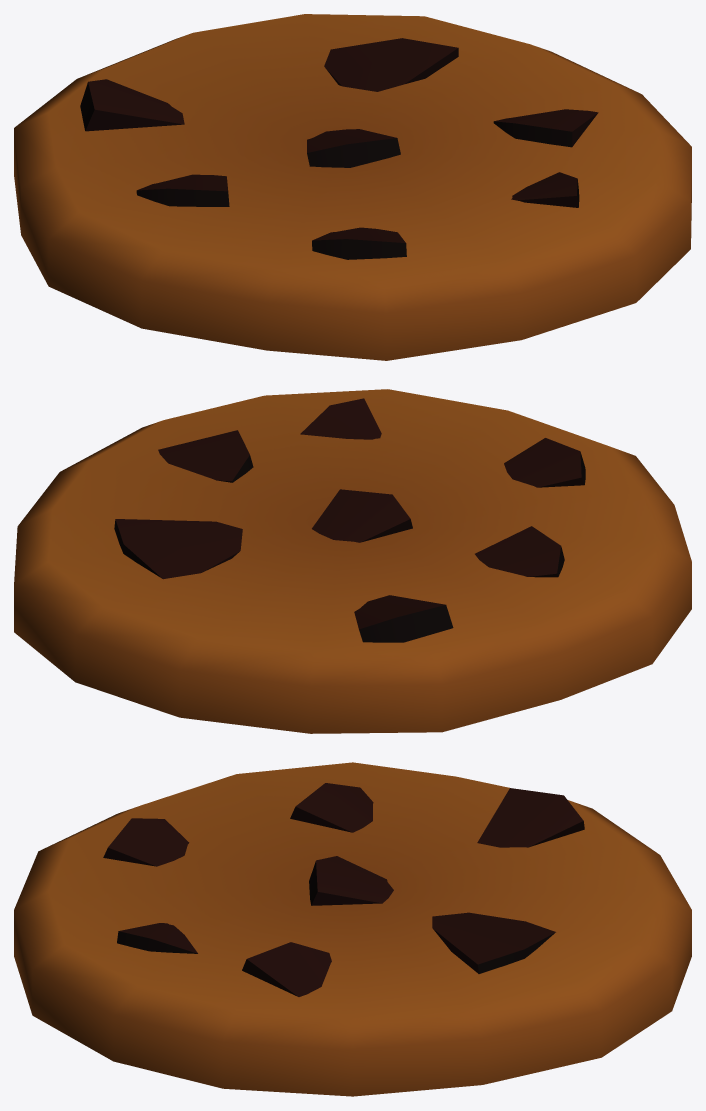
The model's file is Cookie_Regular.fbx.
3 renders of one model, top to bottom at view 1: azimuth 30°, elevation 25°; view 2: azimuth 150°, elevation 25°; view 3: azimuth 270°, elevation 25°, orthographic. The views are drawn at different scales.
Visible parts, largest first — view 1: Cookie_Regular; view 2: Cookie_Regular; view 3: Cookie_Regular.
Boxes of the visible parts, x1=… form: Cookie_Regular: x1=14, y1=14, x2=691, y2=360; Cookie_Regular: x1=14, y1=389, x2=691, y2=733; Cookie_Regular: x1=14, y1=762, x2=691, y2=1096.
Bounding box in the file's own units: 30.01 × 4.35 × 30.34.
